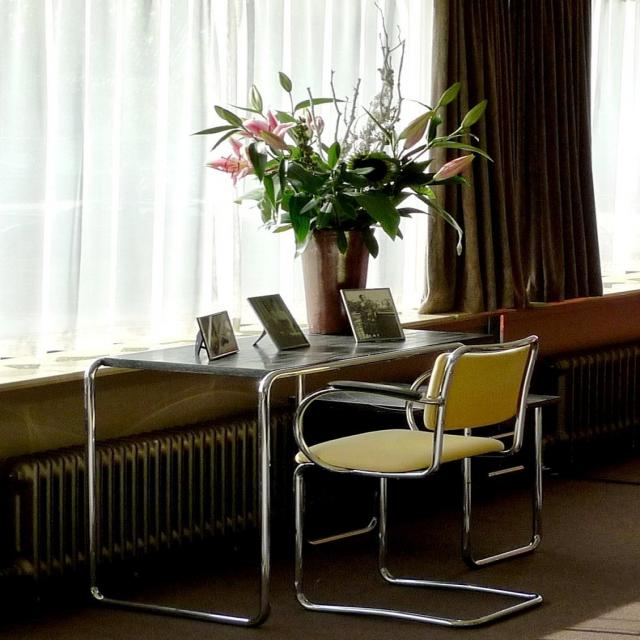chair: (291, 334, 543, 616)
desk: (90, 337, 492, 597)
